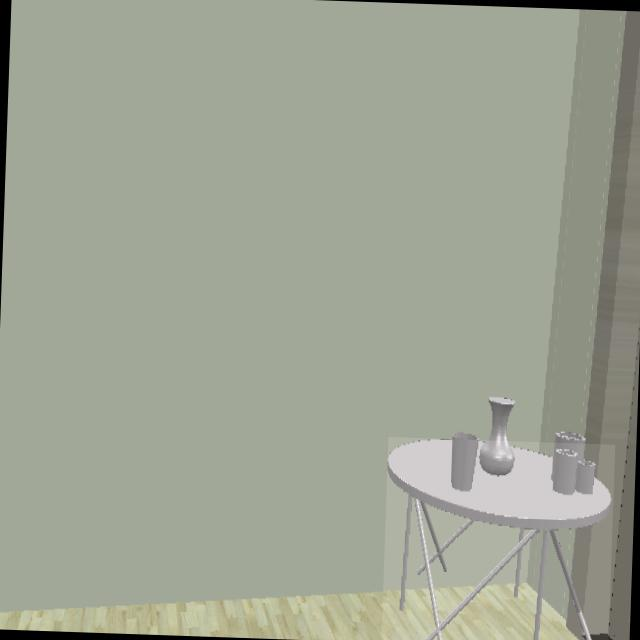table: (387, 439, 613, 640)
